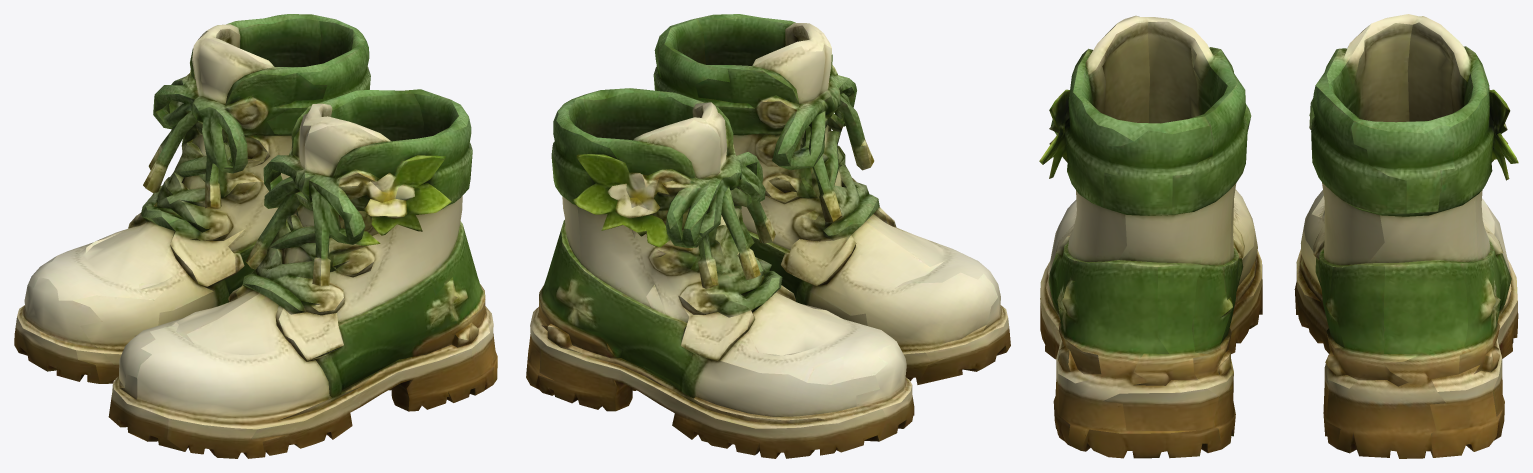
The model's file is shoe.glb.
3 renders of one model, left to right at view 1: azimuth 30°, elevation 25°; view 2: azimuth 150°, elevation 25°; view 3: azimuth 270°, elevation 25°, orthographic. The views are drawn at different scales.
Visible parts, largest first — view 1: geometry_0; view 2: geometry_0; view 3: geometry_0.
Part boxes in pixels (left/top/right/bottom): geometry_0: left=14, top=14, right=497, bottom=458; geometry_0: left=526, top=14, right=1010, bottom=458; geometry_0: left=1039, top=14, right=1518, bottom=458.
Bounding box in the file's own units: 0.25 × 0.1937 × 0.2374.
1 material, 1 textured.
